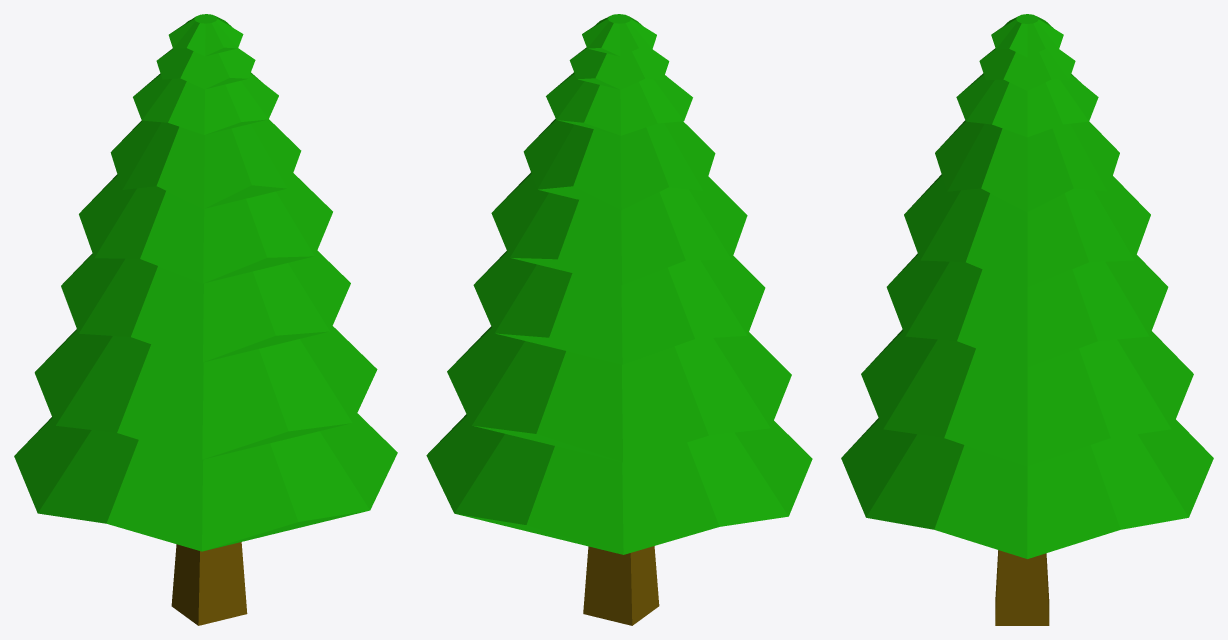
Rendered from real_tree.glb.
3 renders of one model, left to right at view 1: azimuth 30°, elevation 25°; view 2: azimuth 150°, elevation 25°; view 3: azimuth 270°, elevation 25°, orthographic.
Parts seen in each view (by area): view 1: REAL TREE.001_Material.033_0; view 2: REAL TREE.001_Material.033_0; view 3: REAL TREE.001_Material.033_0.
Boxes of the visible parts, <box> form: REAL TREE.001_Material.033_0: <box>14,14,397,625</box>; REAL TREE.001_Material.033_0: <box>426,14,812,625</box>; REAL TREE.001_Material.033_0: <box>841,14,1213,625</box>.
Bounding box in the file's own units: 0.6268 × 1.05 × 0.5965.
1 material, 1 textured.
